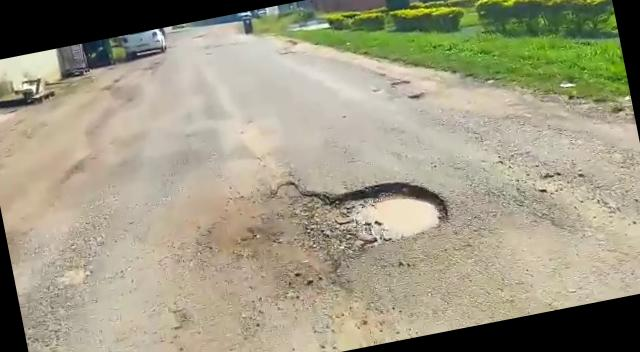pothole: (268, 150, 466, 270)
